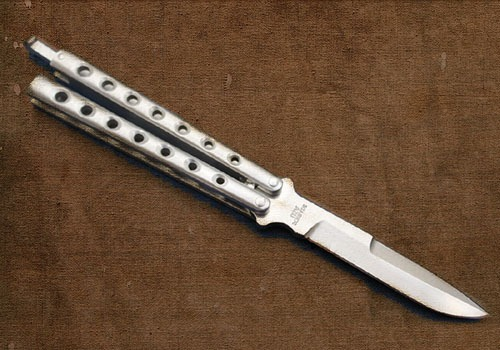knife: (19, 30, 490, 320)
